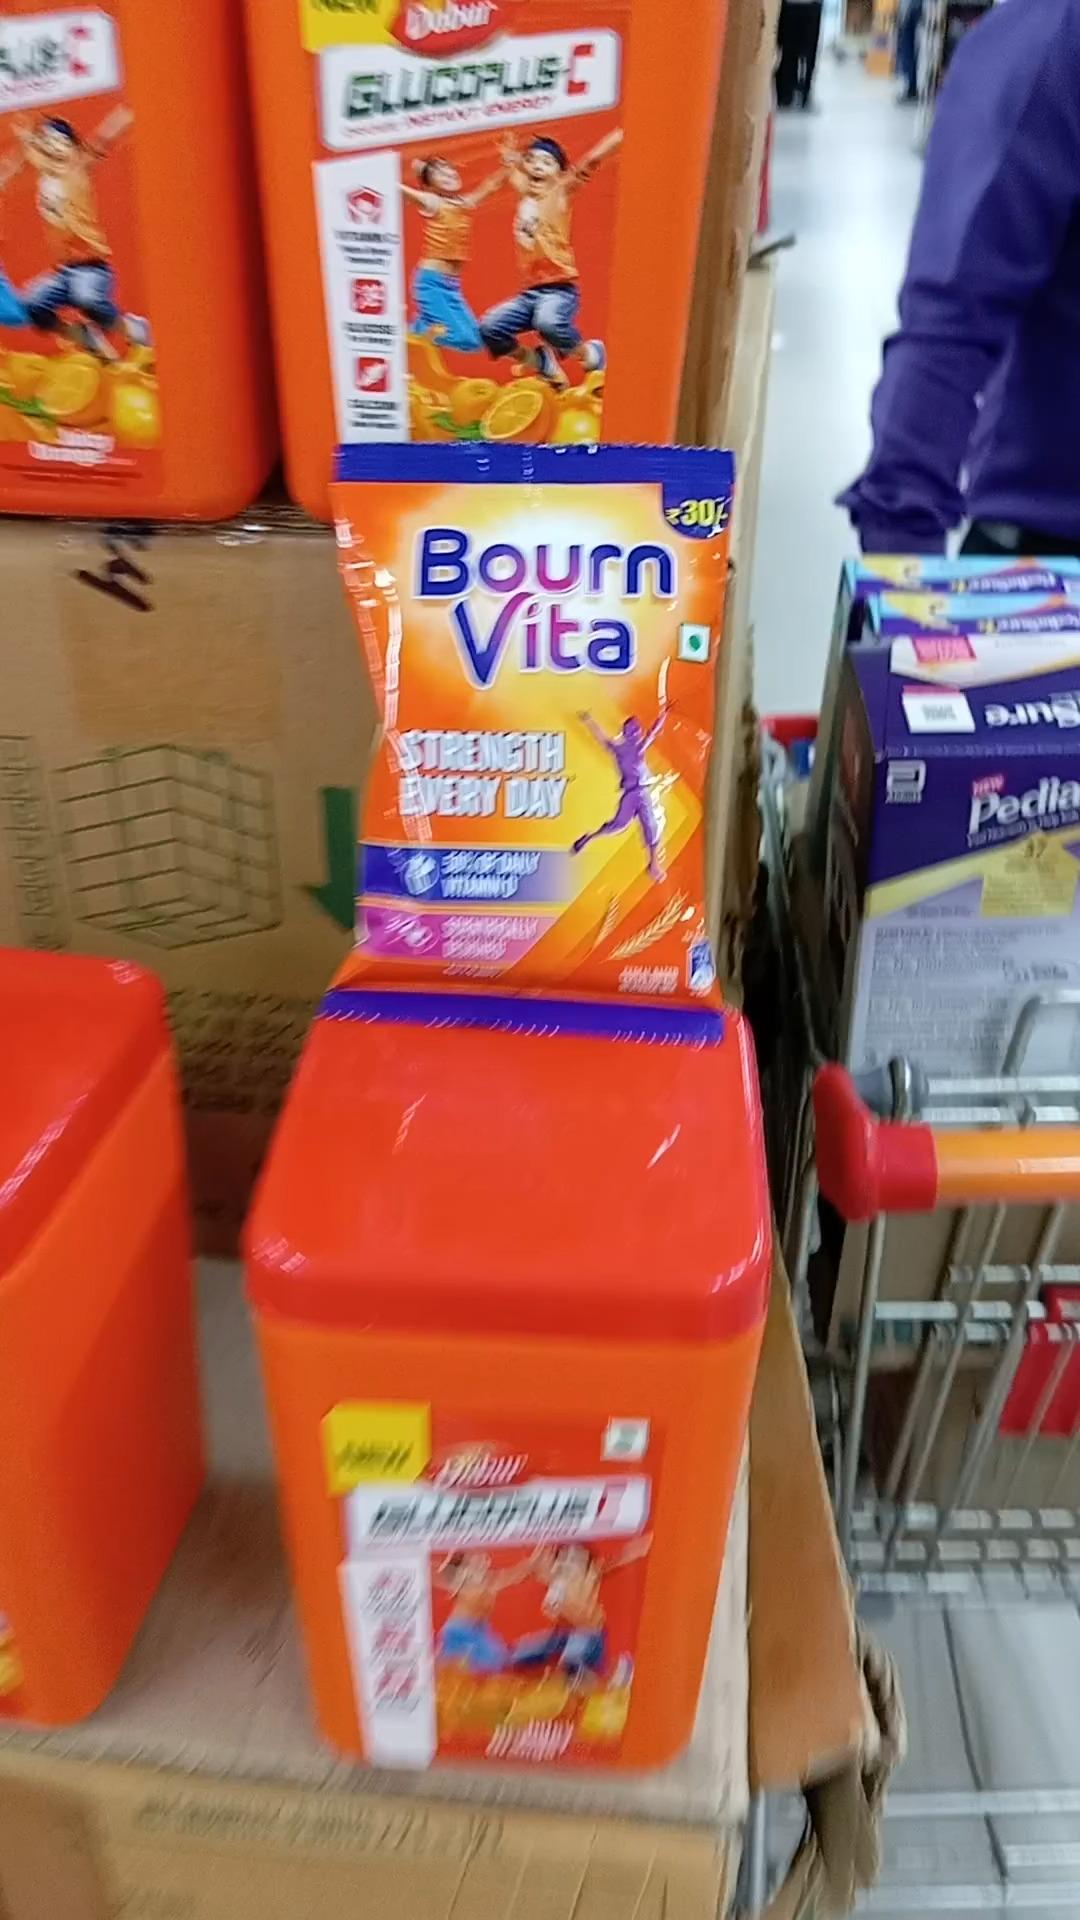BOURN_VITA_75_G_POUCH: (344, 422, 707, 1034)
